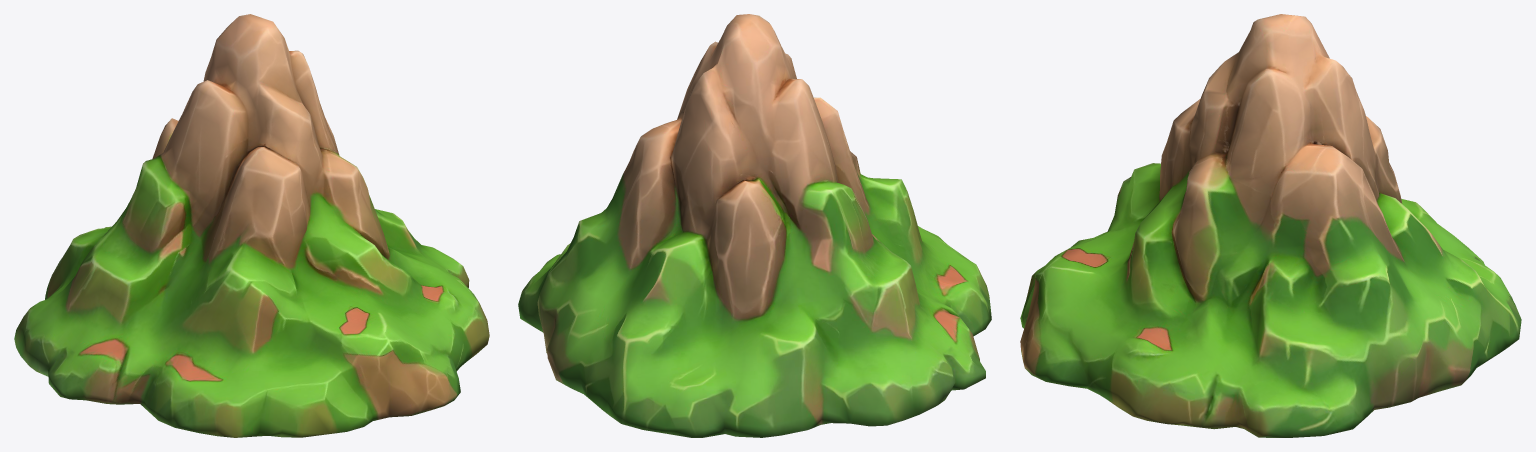
Rendered from Mountain1.glb.
The picture shows the model from 3 angles, left to right: view 1: azimuth 30°, elevation 25°; view 2: azimuth 150°, elevation 25°; view 3: azimuth 270°, elevation 25°; orthographic projection. The views are drawn at different scales.
Visible parts, largest first — view 1: Mesh1.0; view 2: Mesh1.0; view 3: Mesh1.0.
Part boxes in pixels (bbox=[...]): Mesh1.0: bbox=[14, 14, 489, 437]; Mesh1.0: bbox=[518, 14, 991, 437]; Mesh1.0: bbox=[1020, 14, 1521, 437].
Size of the model in its own units: 1.88 by 1.34 by 1.89.
1 material, 1 textured.
